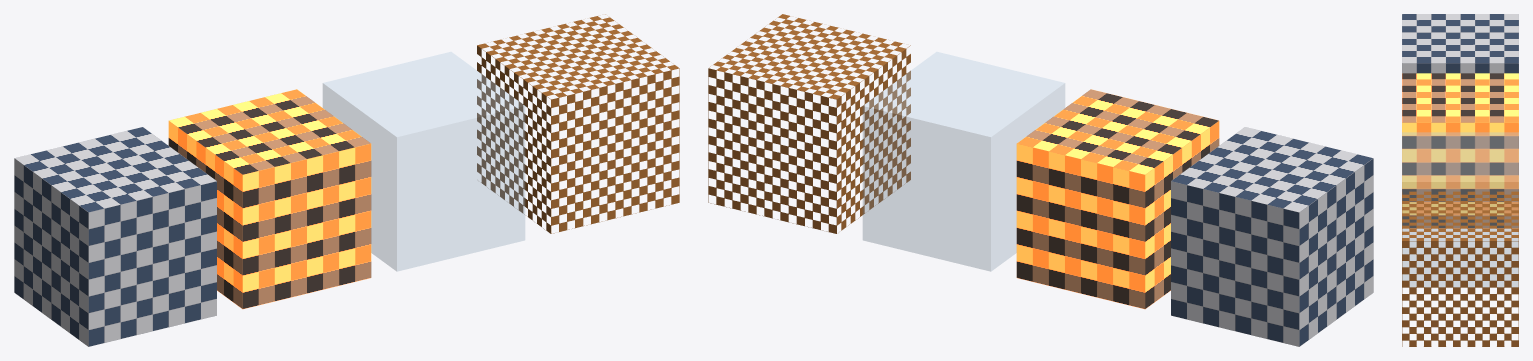
3 renders of one model, left to right at view 1: azimuth 30°, elevation 25°; view 2: azimuth 150°, elevation 25°; view 3: azimuth 270°, elevation 25°, orthographic. The views are drawn at different scales.
Parts seen in each view (by area): view 1: TransparentEmissiveDemo; view 2: TransparentEmissiveDemo; view 3: TransparentEmissiveDemo.
Boxes of the visible parts, x1,y1,x2,y2 form: TransparentEmissiveDemo: [14, 14, 679, 346]; TransparentEmissiveDemo: [708, 14, 1373, 346]; TransparentEmissiveDemo: [1402, 14, 1518, 346].
Size of the model in its own units: 4.6 by 1 by 1.
4 materials, 3 textured.
